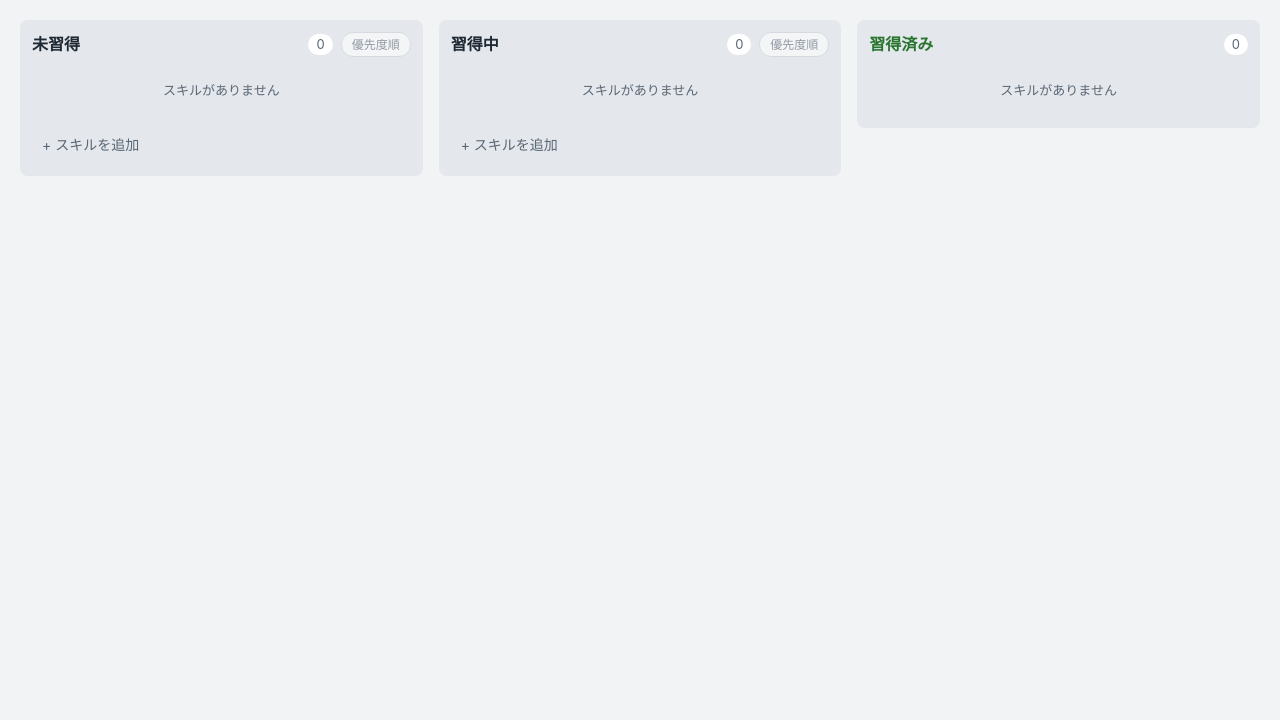
Board: スキルの追加 › 追加したカードは、習得日を出さず、優先度・期限も表示される
Step 1. Click the button "+ スキルを追加" below "未習得" → (91, 144), box [32,126,411,164]
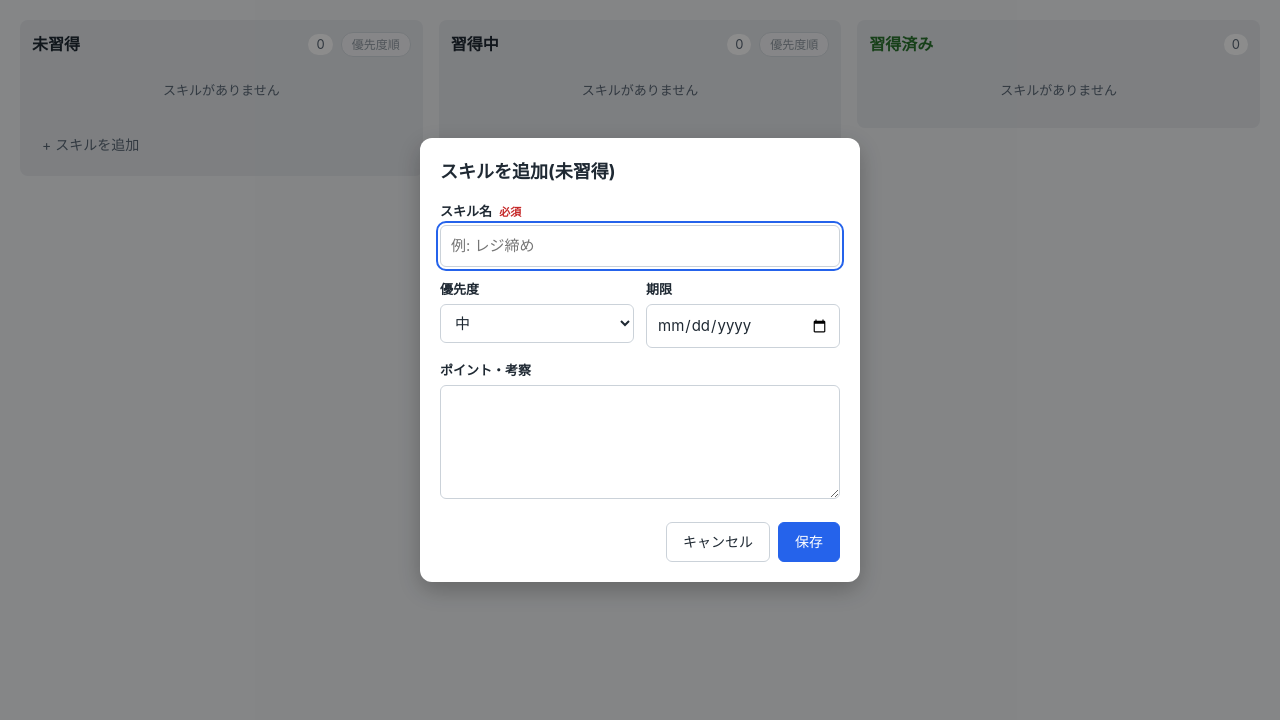
Step 2. Type "新しいスキル" into the field labelled "スキル名 必須" → (640, 246), box [440,225,840,267]
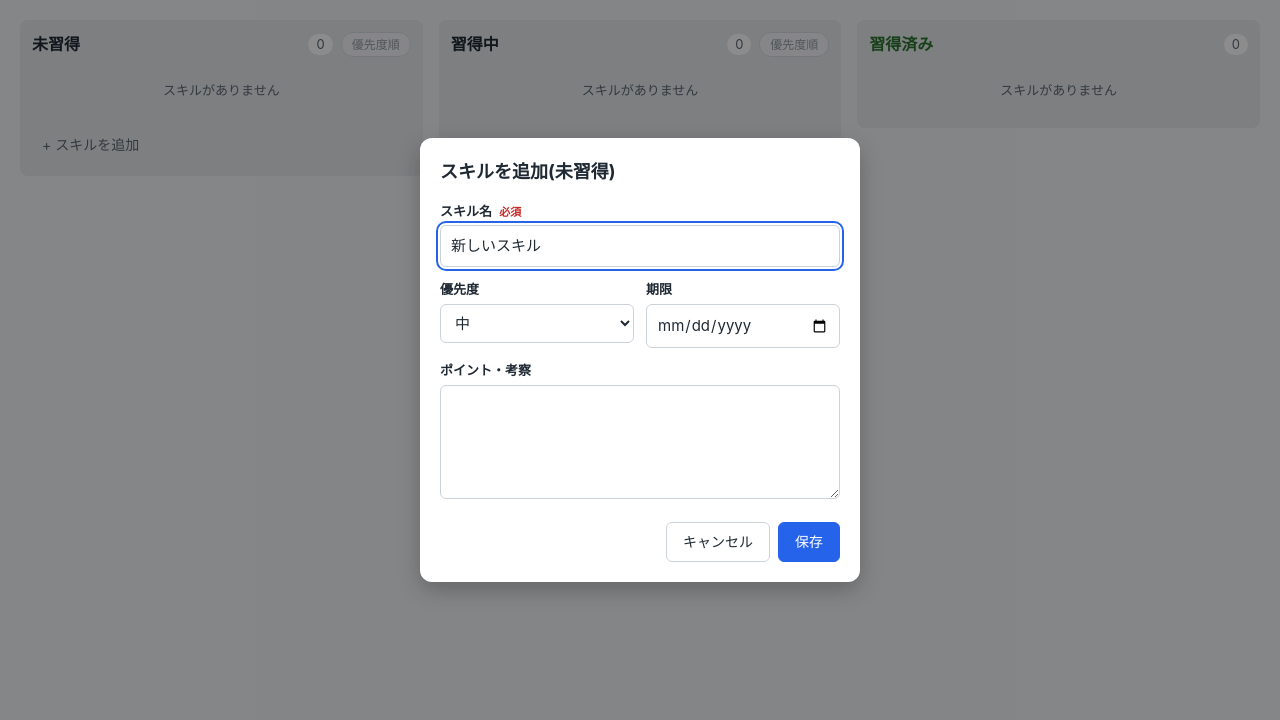
Step 3. Click the button "保存" → (809, 542), box [778,522,840,562]
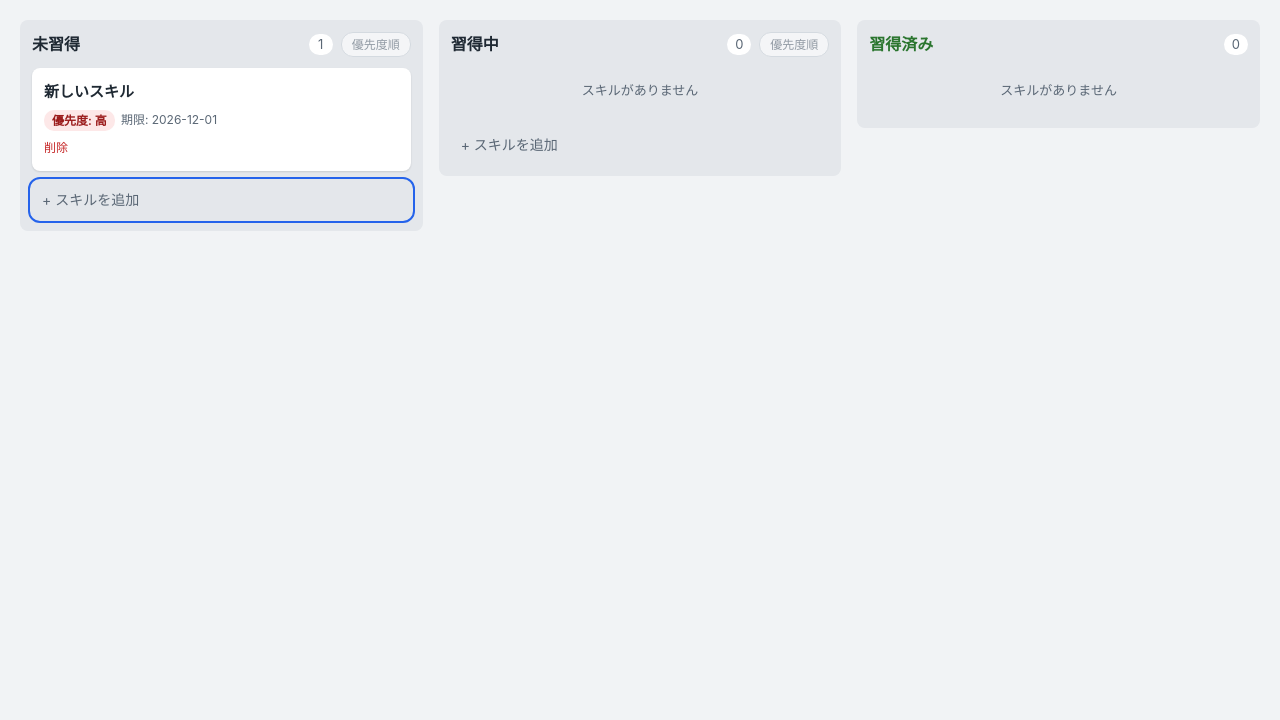
Expected: the text "優先度: 高" is shown, [44,110,115,131]
Expected: the text "期限: 2026-12-01" is shown, [121,110,217,131]
